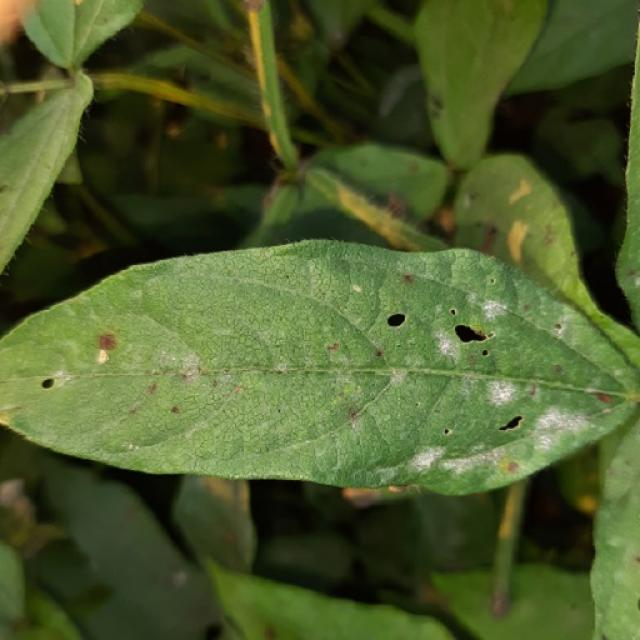Blackgram: (0, 241, 639, 494)
Powdery_Mildew: (418, 294, 519, 376), (530, 404, 597, 444), (488, 380, 521, 411), (489, 380, 518, 406), (434, 332, 460, 360), (409, 449, 442, 470), (480, 299, 509, 319), (388, 369, 408, 387), (171, 571, 188, 588), (180, 367, 198, 382), (96, 349, 109, 364), (274, 363, 289, 374), (553, 323, 565, 335), (352, 284, 362, 293), (126, 443, 135, 451)
